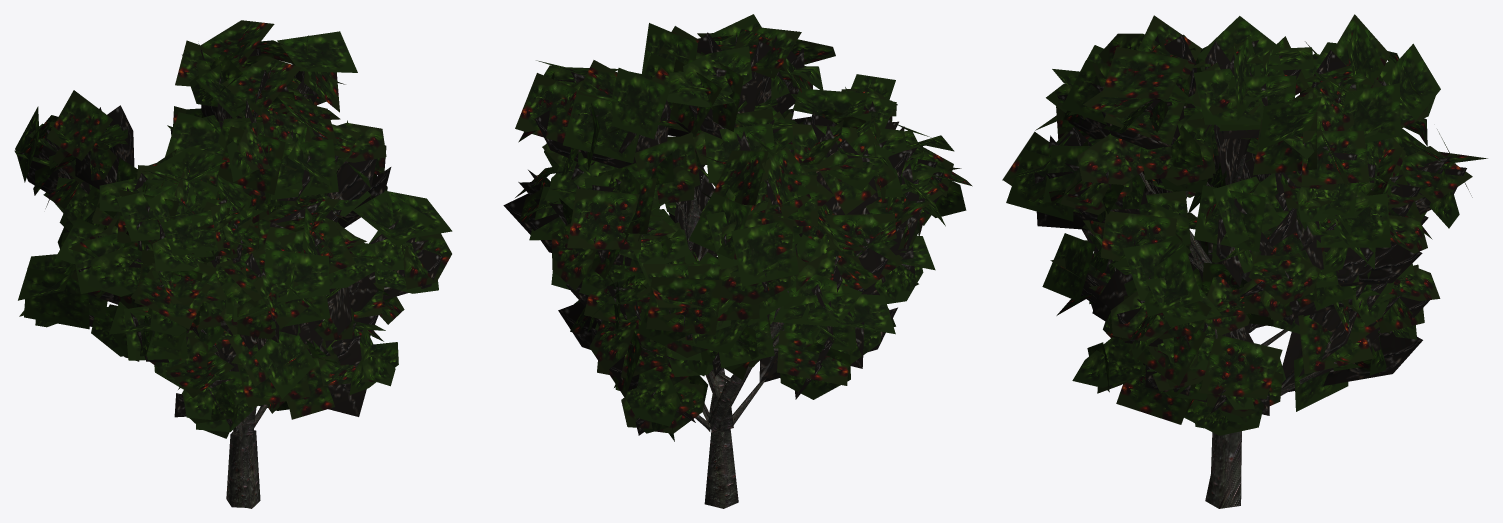
Rendered from manzano_mid.glb.
The picture shows the model from 3 angles, left to right: view 1: azimuth 30°, elevation 25°; view 2: azimuth 150°, elevation 25°; view 3: azimuth 270°, elevation 25°; orthographic projection. The views are drawn at different scales.
Parts seen in each view (by area): view 1: LOD0; view 2: LOD0; view 3: LOD0.
Boxes of the visible parts, x1,y1,x2,y2 form: LOD0: (14, 20, 452, 508); LOD0: (503, 14, 972, 508); LOD0: (1002, 14, 1487, 508).
Bounding box in the file's own units: 0.1422 × 0.1571 × 0.1458.
1 material, 1 textured.
